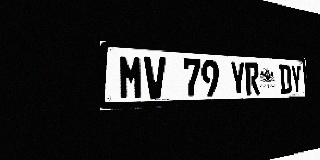7: (182, 58, 202, 97)
9: (201, 59, 220, 97)
D: (279, 64, 292, 94)
M: (118, 55, 144, 100)
R: (245, 62, 260, 95)
V: (144, 56, 167, 99)
Y: (230, 61, 246, 96), (290, 65, 303, 94)
